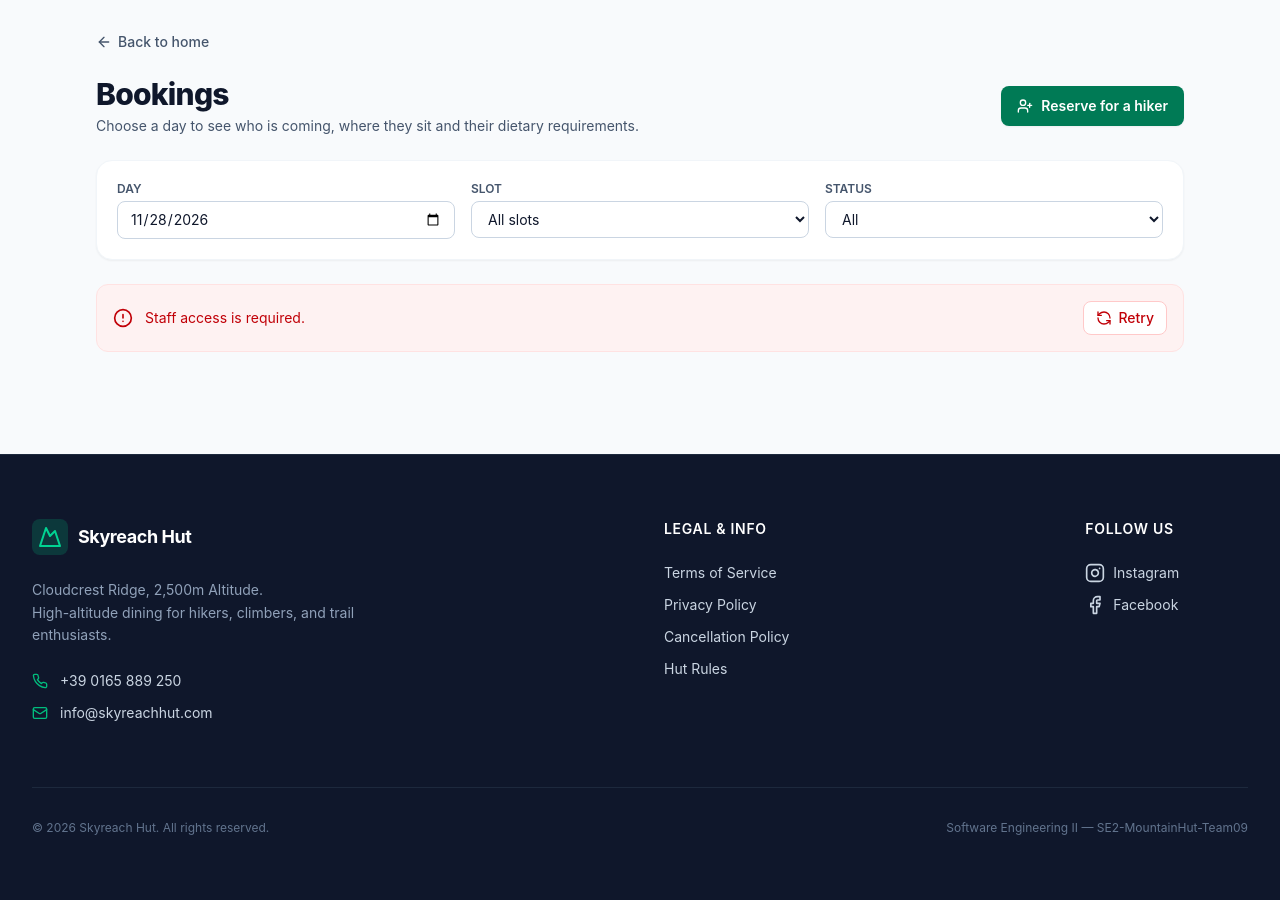
Test case: MH-05 staff booking integration › displays backend errors and retries the same filtered staff request
This screenshot has width=1280, height=900.
Expected: the message shows "Staff access is required.", [145,309,305,326]
Step 1. Click the button "Retry" → x=1125, y=318, box [1083,301,1167,335]
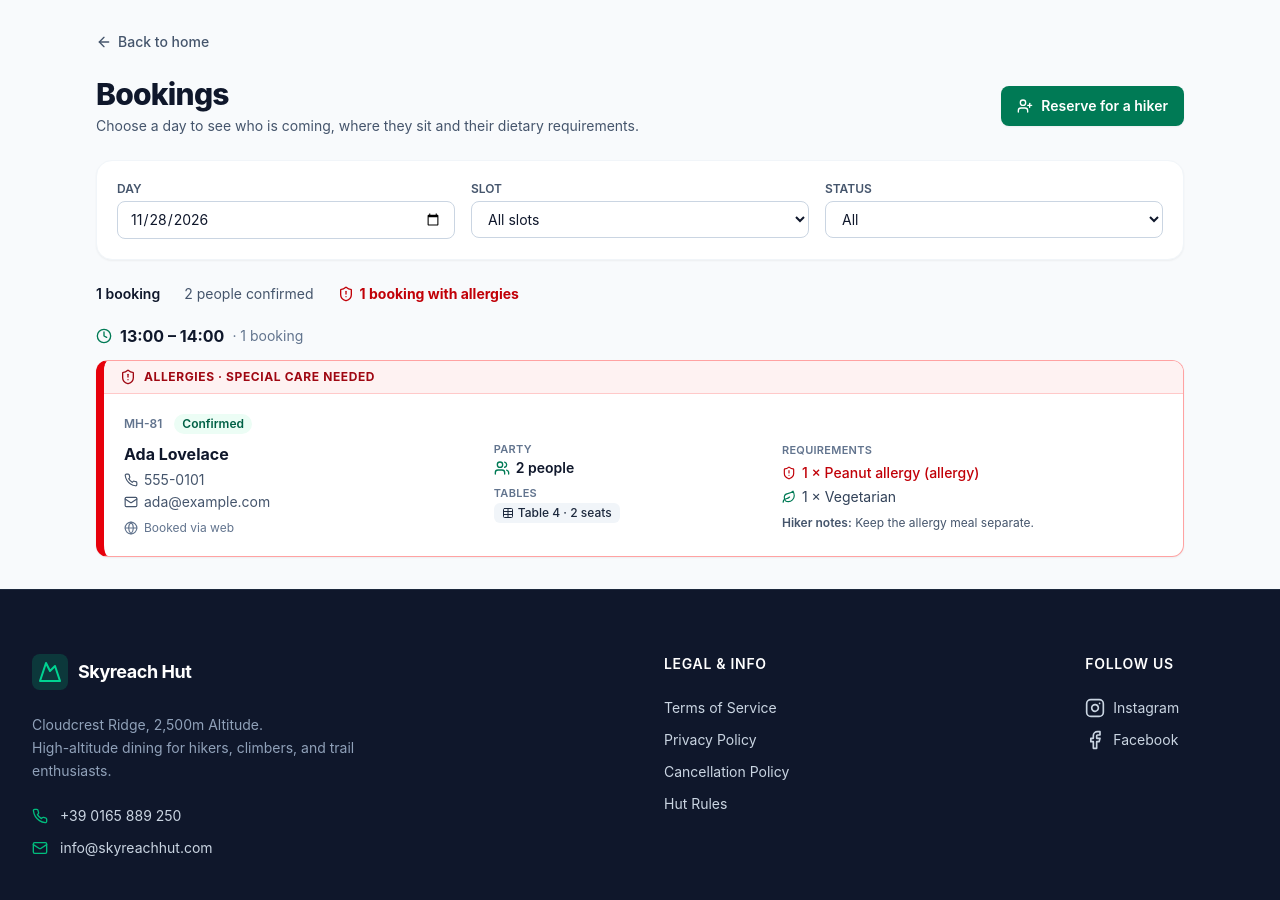
Result: the text "1 × Peanut allergy (allergy)" is shown at [802,462,980,482]
